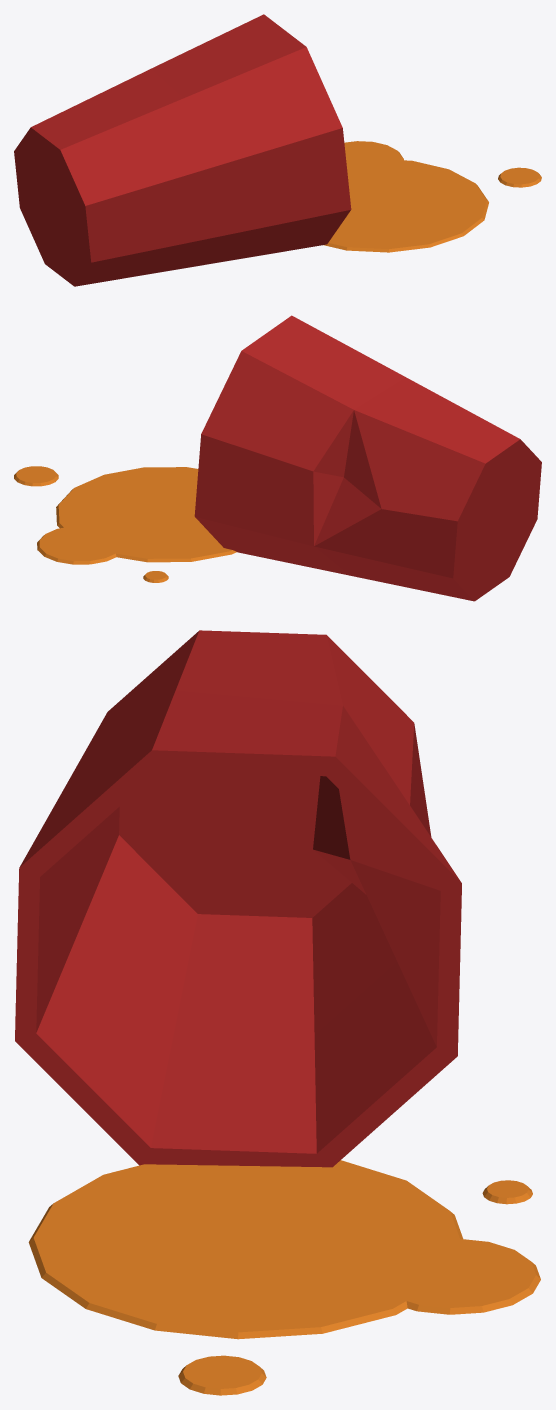
File: Red_Spill.fbx
3 renders of one model, top to bottom at view 1: azimuth 30°, elevation 25°; view 2: azimuth 150°, elevation 25°; view 3: azimuth 270°, elevation 25°, orthographic. The views are drawn at different scales.
Visible parts, largest first — view 1: Red_Spill; view 2: Red_Spill; view 3: Red_Spill.
Part boxes in pixels (x1,y1,x2,y2): Red_Spill: (14, 14, 541, 286); Red_Spill: (14, 315, 541, 601); Red_Spill: (15, 630, 540, 1395).
Bounding box in the file's own units: 111 × 44.16 × 52.23.
